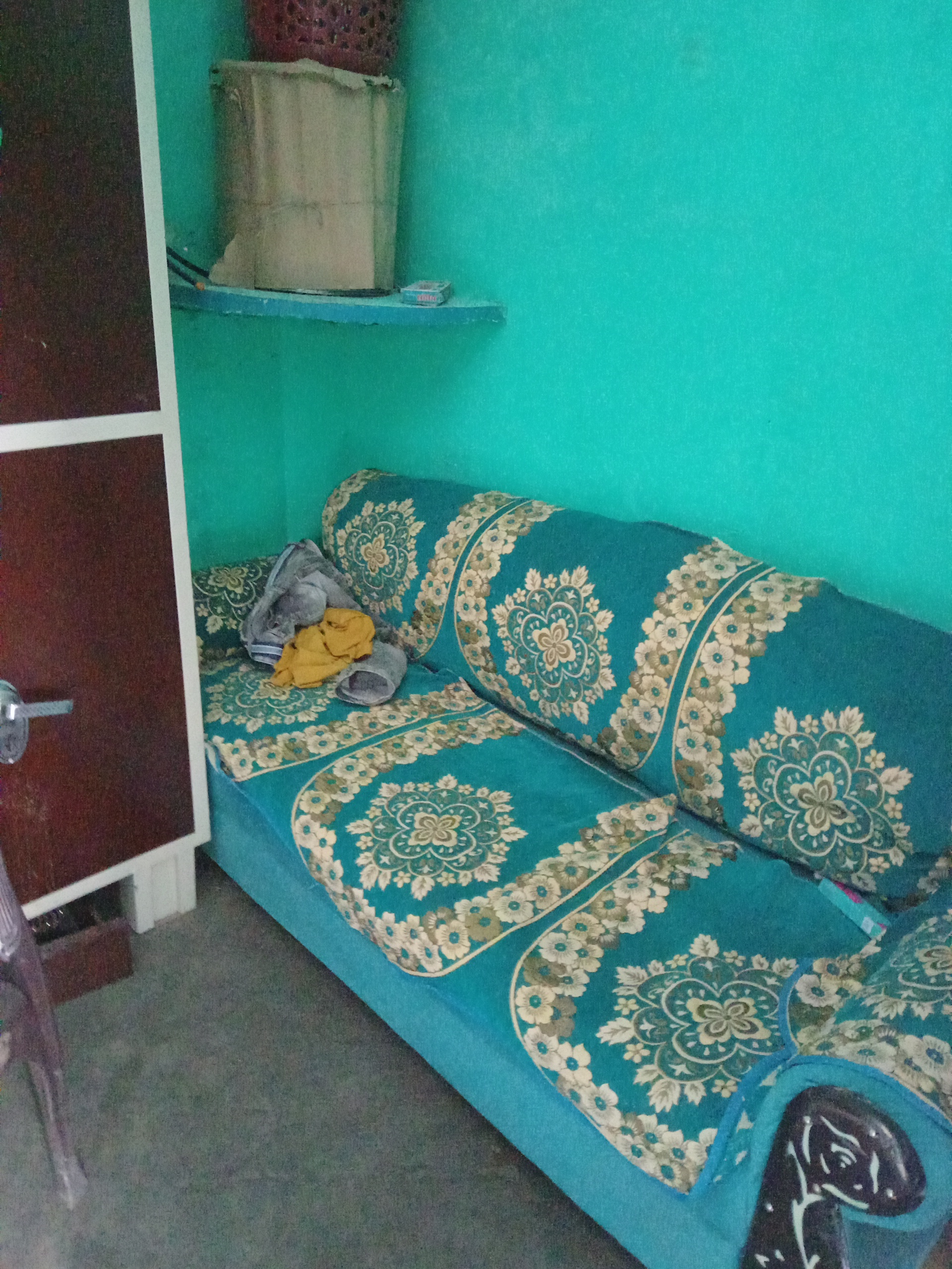sofa: (194, 473, 952, 1269)
